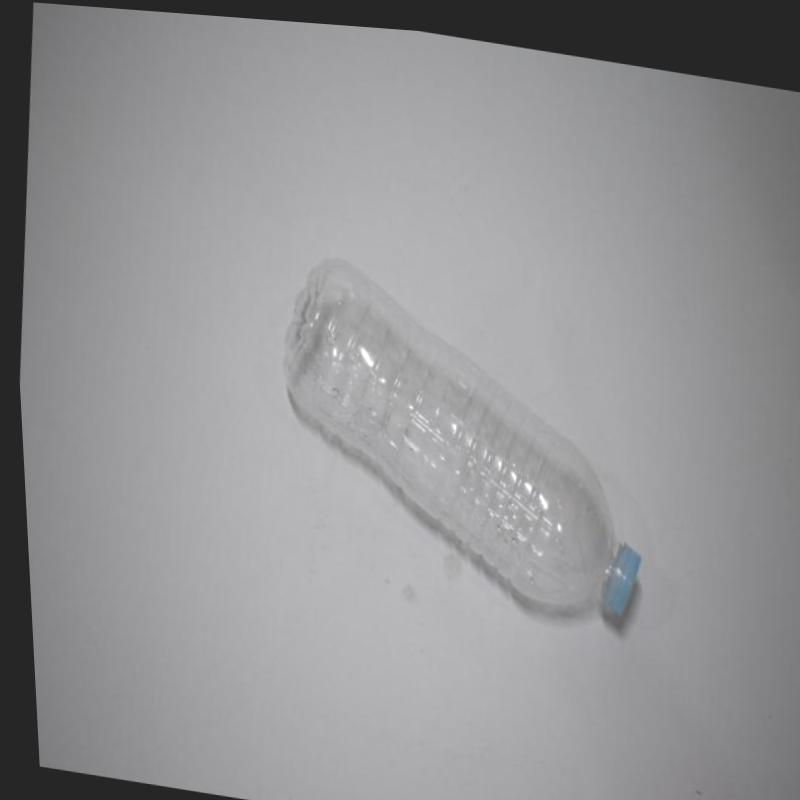botella: (257, 244, 661, 619)
